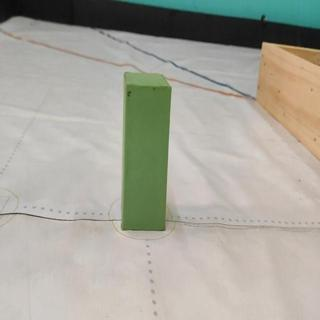greenbox: (121, 69, 175, 234)
